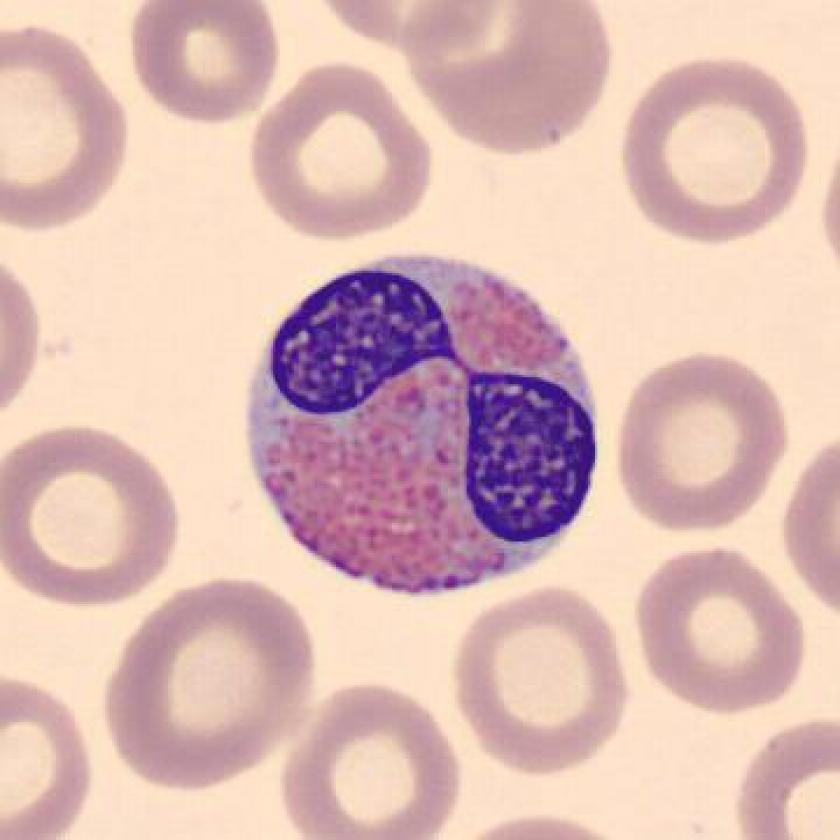eosinophil: (234, 242, 610, 607)
